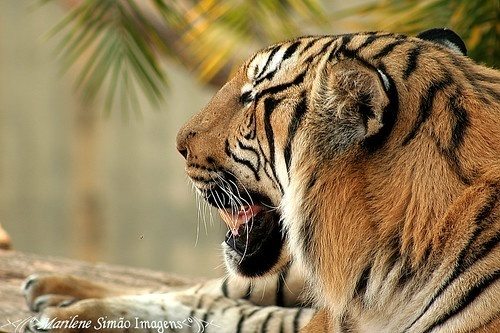tigre: (45, 25, 498, 330)
